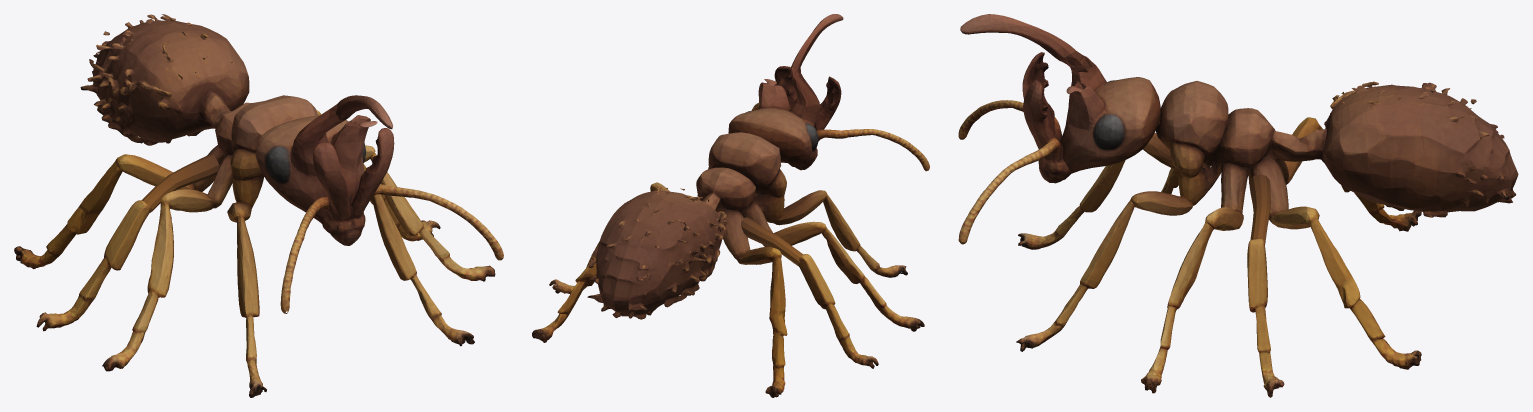
3 renders of one model, left to right at view 1: azimuth 30°, elevation 25°; view 2: azimuth 150°, elevation 25°; view 3: azimuth 270°, elevation 25°, orthographic. The views are drawn at different scales.
Parts seen in each view (by area): view 1: geometry_0, left_ART_TRIAL; view 2: geometry_0, left_ART_TRIAL; view 3: geometry_0, right_ART_TRIAL.
Part boxes in pixels (x1,y1,x2,y2): geometry_0: [14, 14, 503, 397]; left_ART_TRIAL: [141, 154, 219, 212]; geometry_0: [532, 14, 929, 397]; left_ART_TRIAL: [741, 217, 802, 266]; geometry_0: [958, 14, 1518, 397]; right_ART_TRIAL: [1249, 174, 1270, 244].
Bounding box in the file's own units: 0.8358 × 0.5668 × 1.
3 materials, 1 textured.
